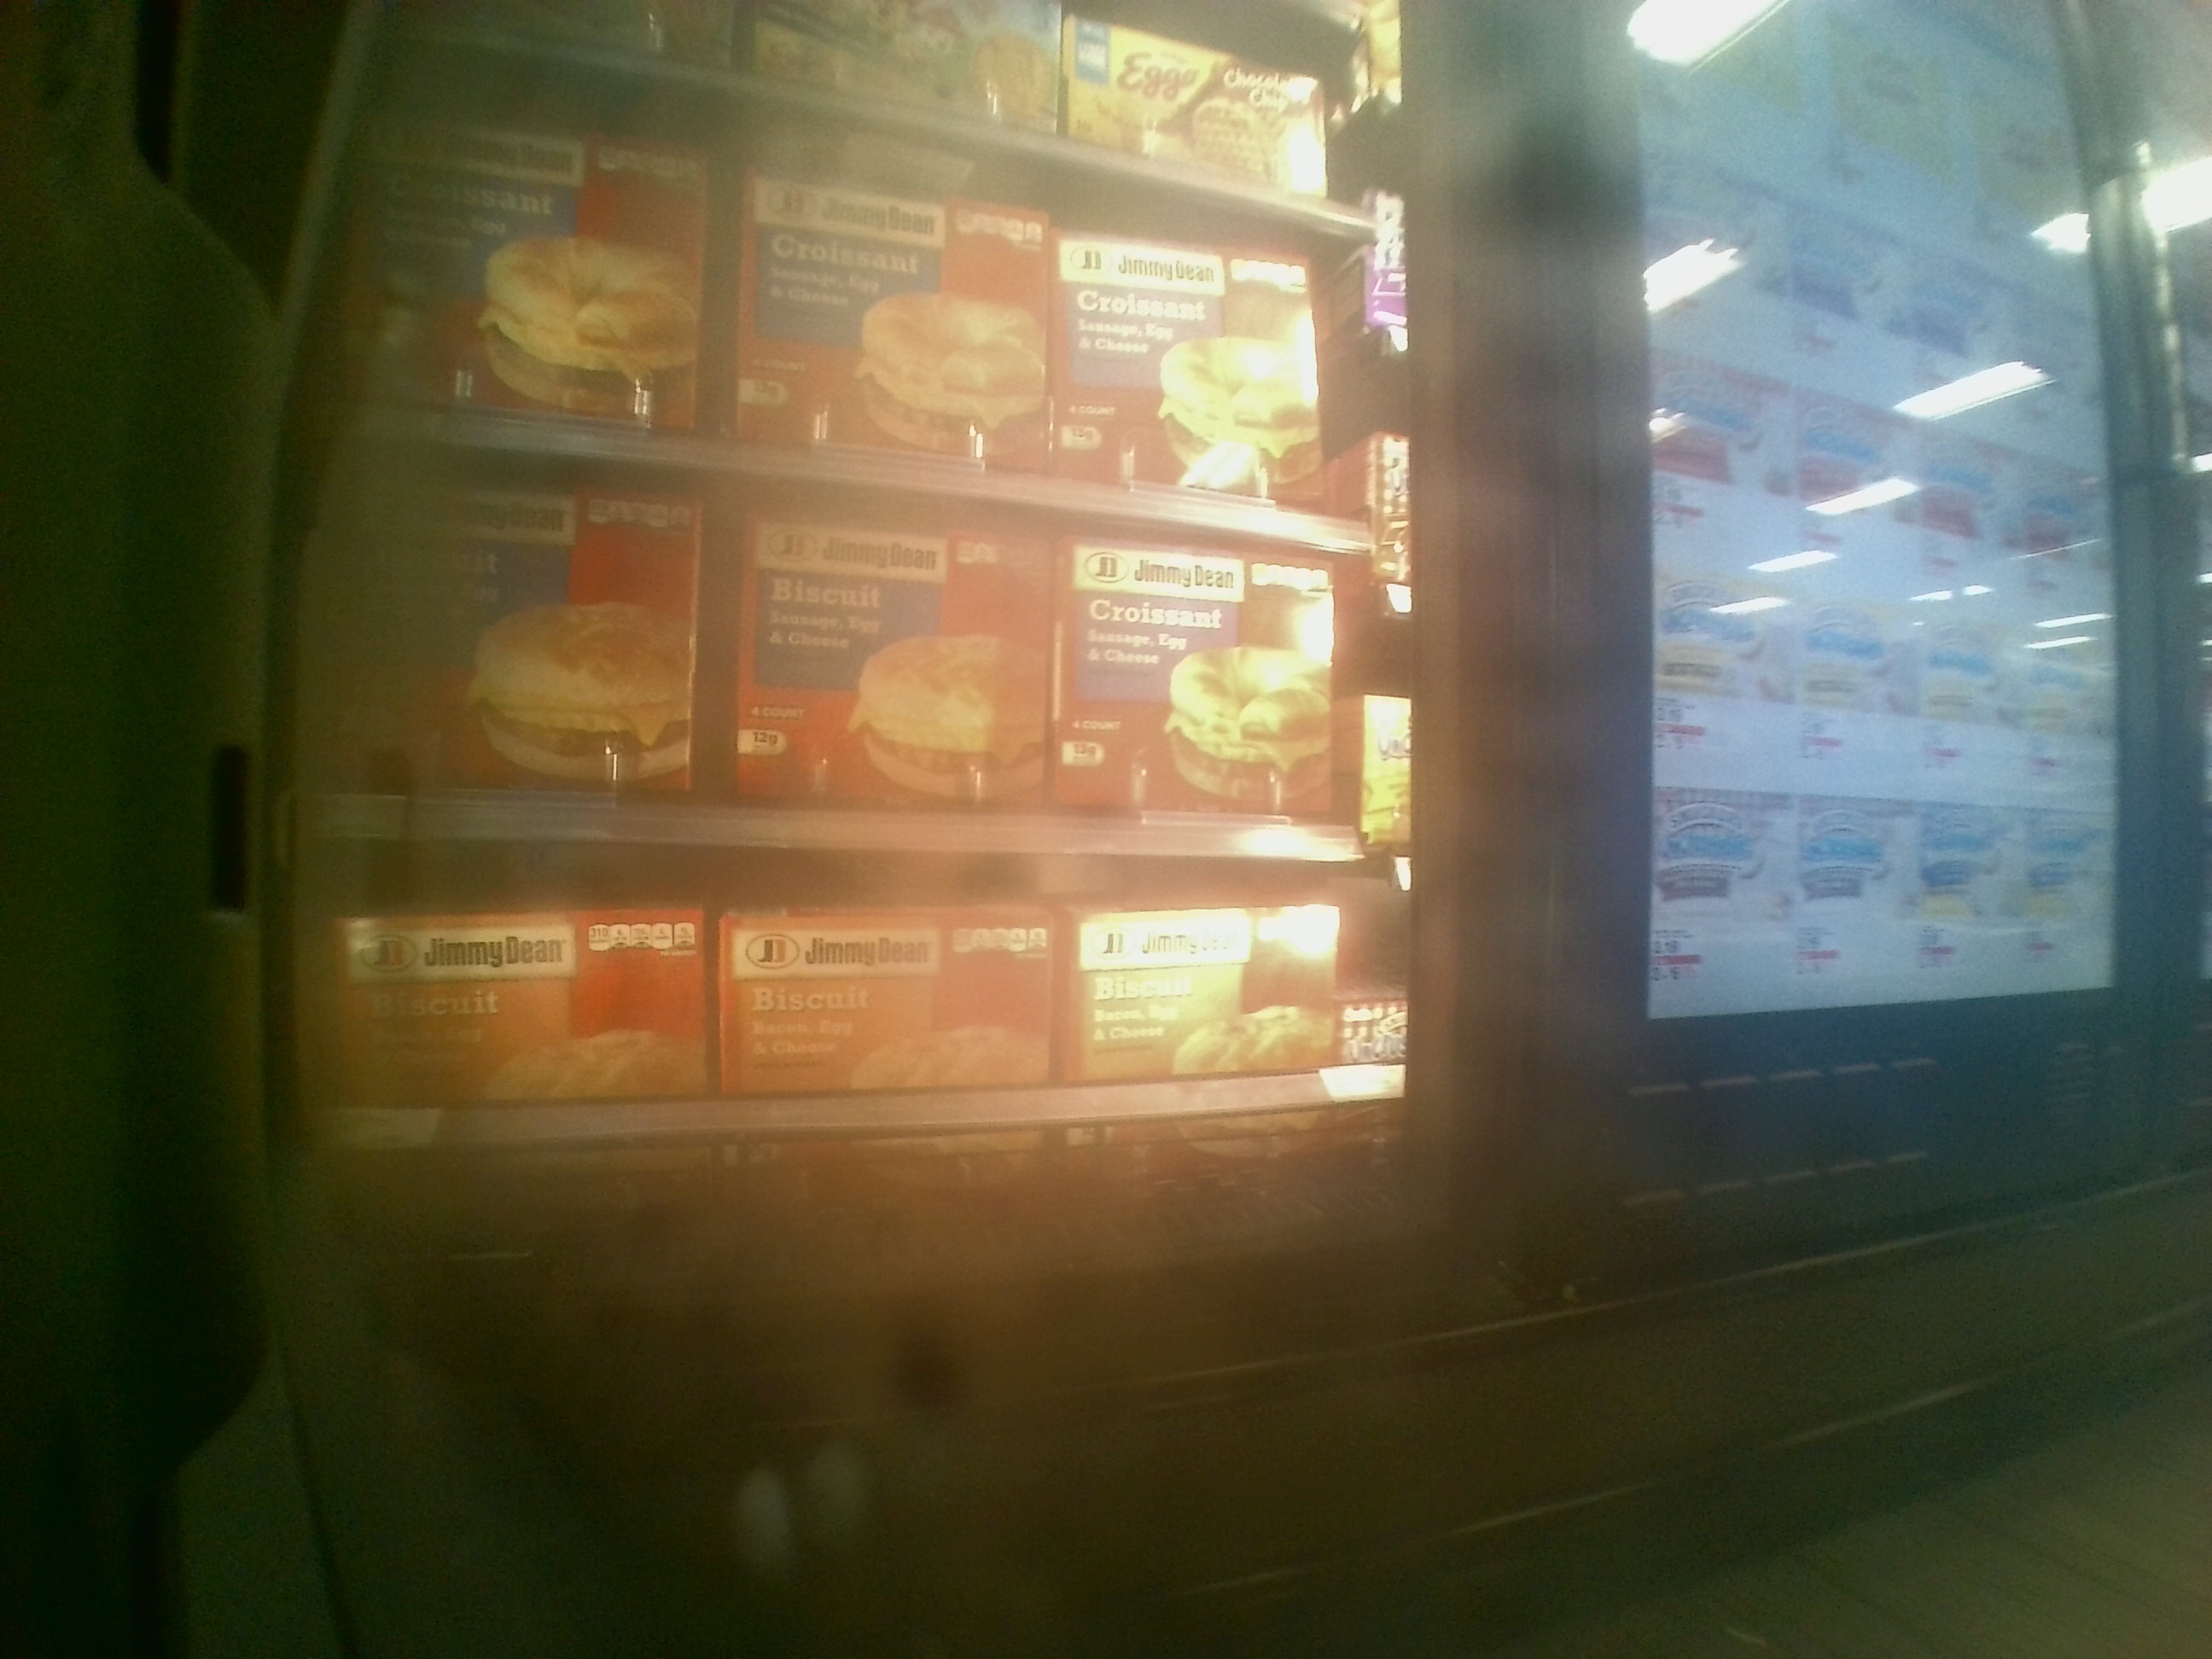shelf: (296, 849, 1416, 1248)
